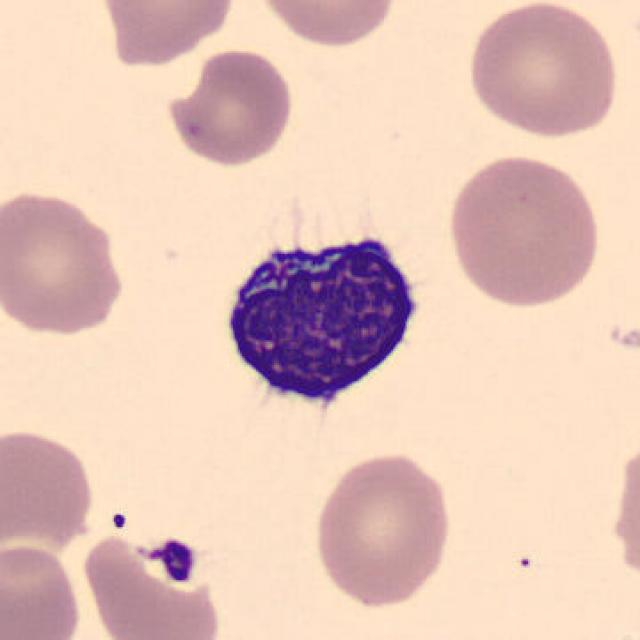Lymphocyte: (210, 217, 434, 430)
Platelets: (155, 536, 199, 585), (106, 508, 132, 532)
RBC: (441, 150, 606, 310), (309, 448, 457, 612), (462, 0, 622, 141), (0, 185, 130, 339), (78, 527, 226, 640), (162, 46, 297, 169), (0, 423, 98, 554), (92, 0, 242, 65), (0, 539, 85, 640), (249, 0, 402, 49), (606, 434, 640, 596)
